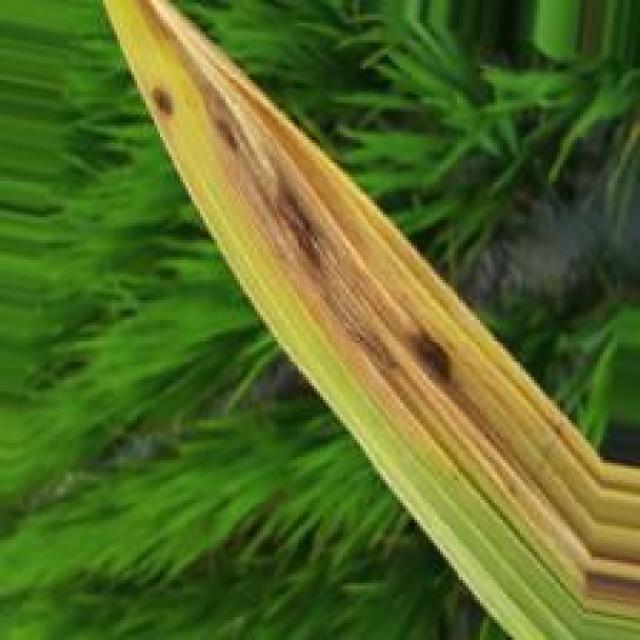Leaf_Blast: (256, 139, 332, 276), (397, 325, 454, 396), (204, 106, 248, 162), (151, 83, 175, 120)
